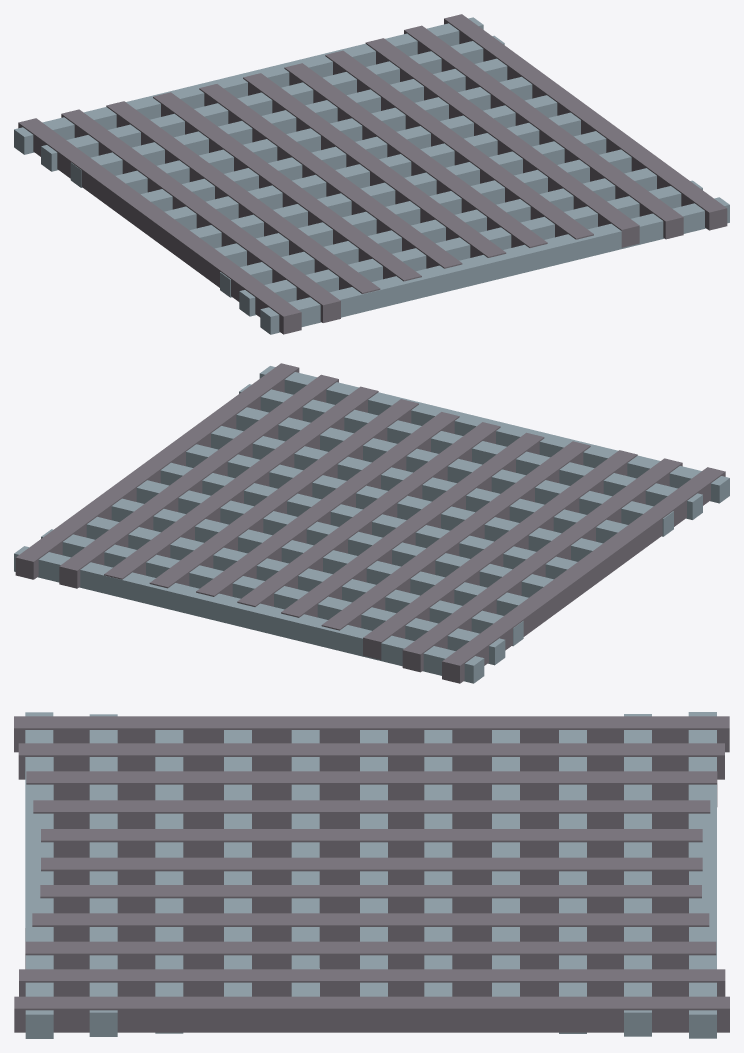
Rendered from fishing net.fbx.
3 renders of one model, top to bottom at view 1: azimuth 30°, elevation 25°; view 2: azimuth 150°, elevation 25°; view 3: azimuth 270°, elevation 25°, orthographic. The views are drawn at different scales.
Parts seen in each view (by area): view 1: fishing net; view 2: fishing net; view 3: fishing net.
Part boxes in pixels (x1,y1,x2,y2): fishing net: (14,14,729,334); fishing net: (14,363,729,683); fishing net: (14,712,729,1038).
Bounding box in the file's own units: 102 × 4.08 × 102.
